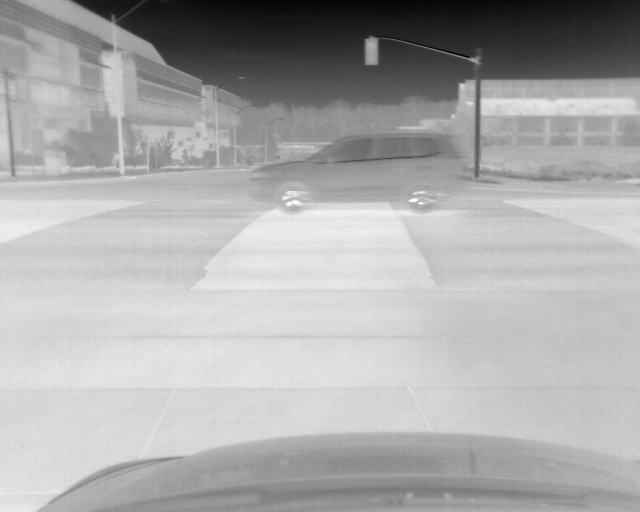car: (245, 132, 462, 214)
